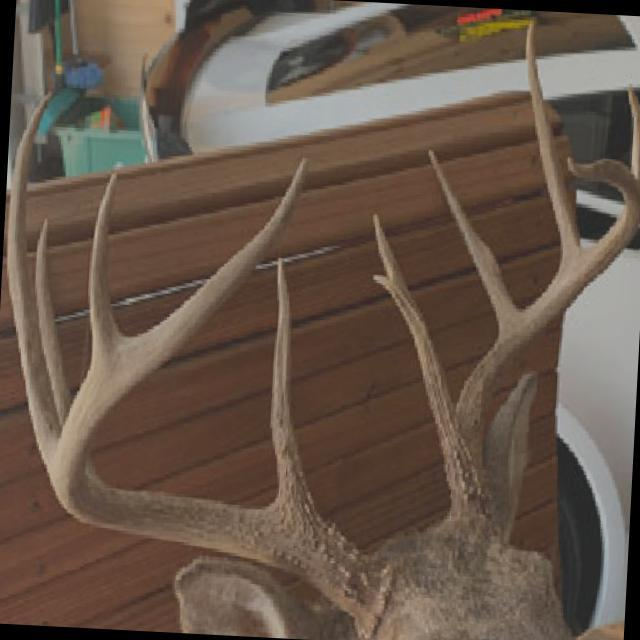L-F: (440, 155, 640, 527)
L-G1: (372, 208, 454, 445)
L-G2: (427, 148, 522, 337)
L-G3: (525, 20, 582, 269)
L-G4: (627, 79, 640, 186)
R-F: (50, 154, 396, 640)
R-G1: (265, 250, 325, 518)
R-G2: (87, 169, 124, 363)
R-G3: (5, 88, 58, 483)
